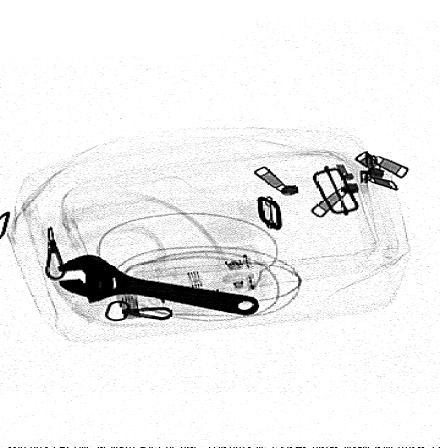Wrench: (56, 256, 262, 315)
